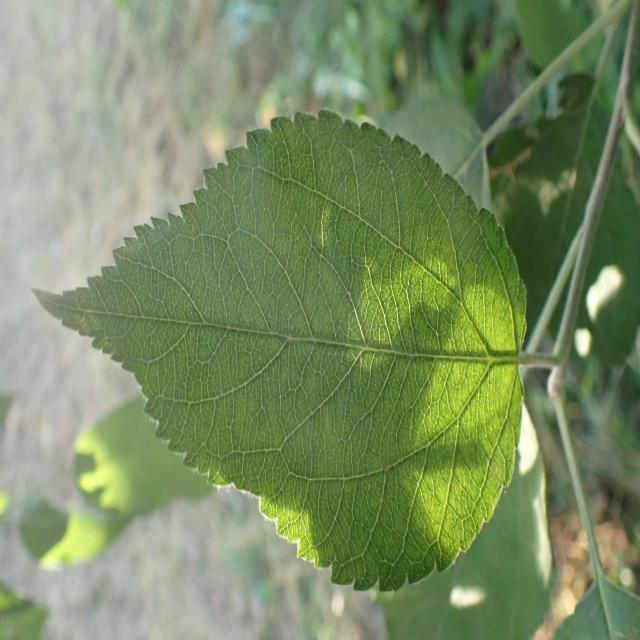healthy: (31, 108, 528, 592)
